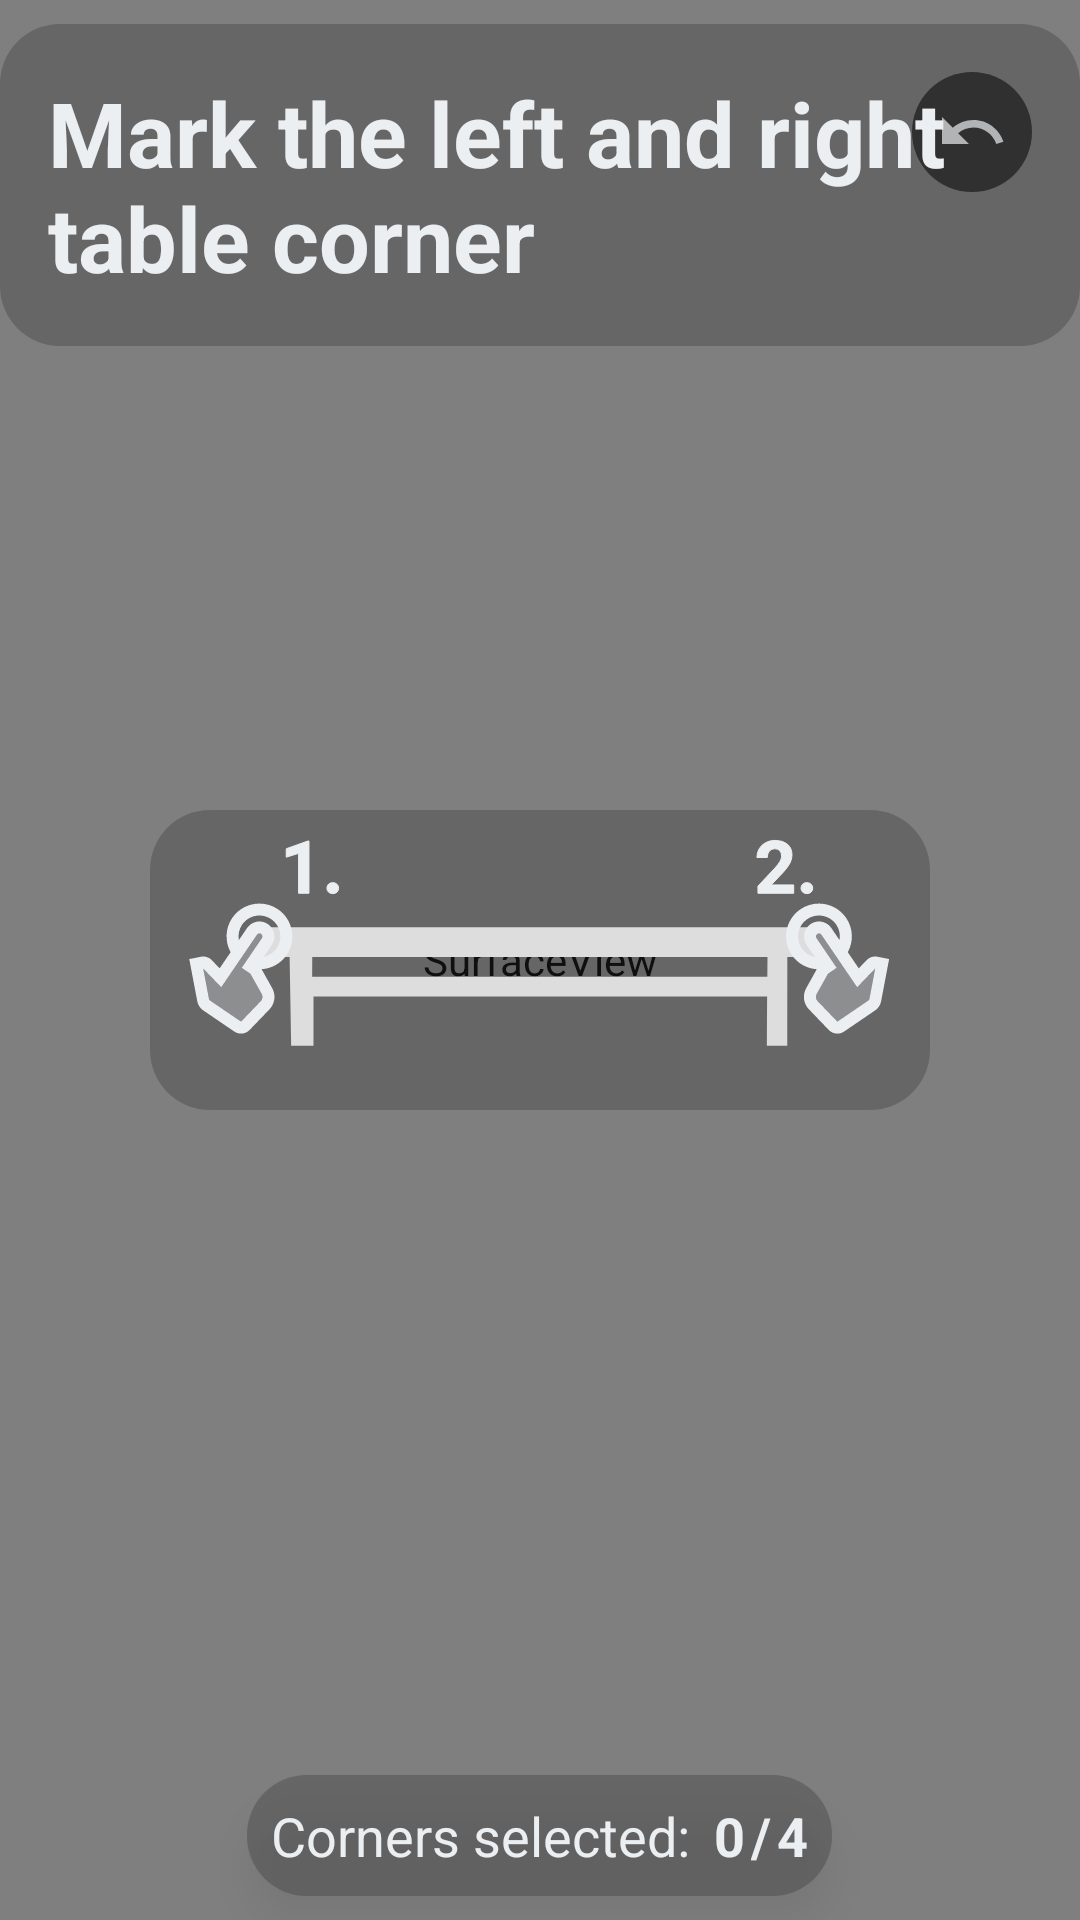

Icon click points for this 1080w x 1920h phone screenshot, format (x=x, y=y):
reverts last selected corner: (x=972, y=132)
